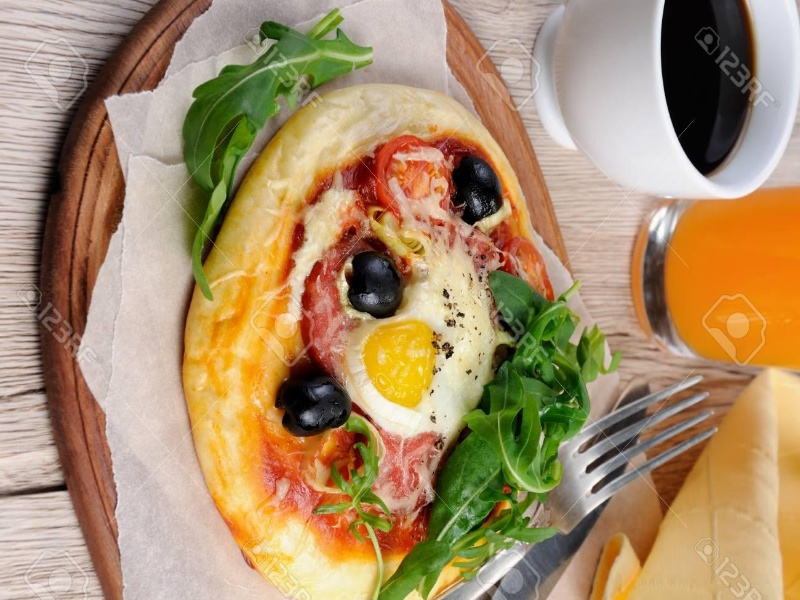oeuf: (361, 314, 459, 428)
olive: (268, 361, 361, 441), (343, 244, 411, 320), (445, 153, 507, 235)
